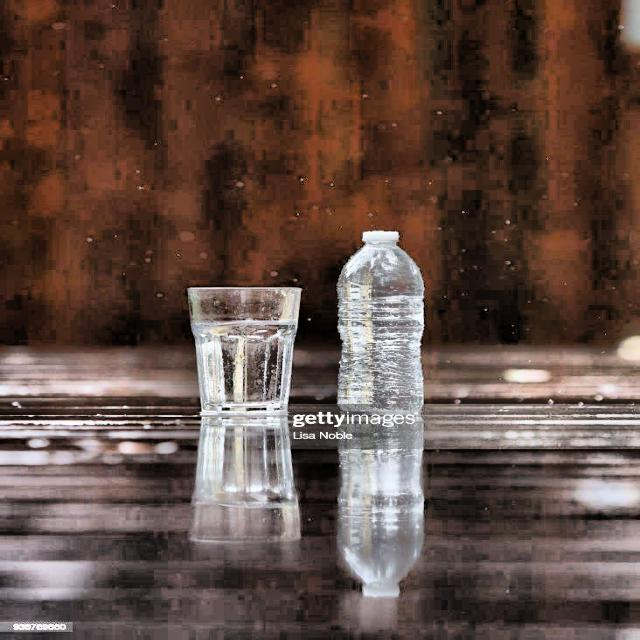Bottles: (317, 223, 447, 422)
